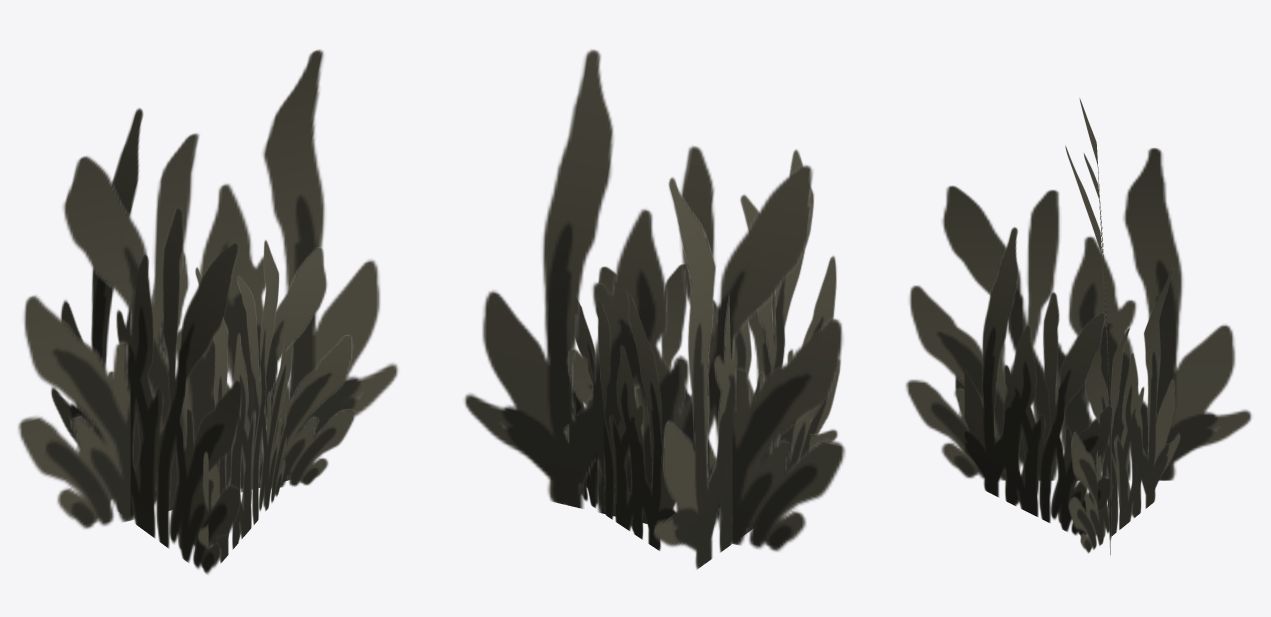
The model's file is env_grass5_painty_01_v1.glb.
3 renders of one model, left to right at view 1: azimuth 30°, elevation 25°; view 2: azimuth 150°, elevation 25°; view 3: azimuth 270°, elevation 25°, orthographic. The views are drawn at different scales.
Visible parts, largest first — view 1: grass_plane.006; view 2: grass_plane.006; view 3: grass_plane.006.
Boxes of the visible parts, x1,y1,x2,y2 form: grass_plane.006: (17,49,398,574); grass_plane.006: (464,49,845,569); grass_plane.006: (905,98,1251,555).
Bounding box in the file's own units: 0.5694 × 0.63 × 0.4879.
1 material, 1 textured.
